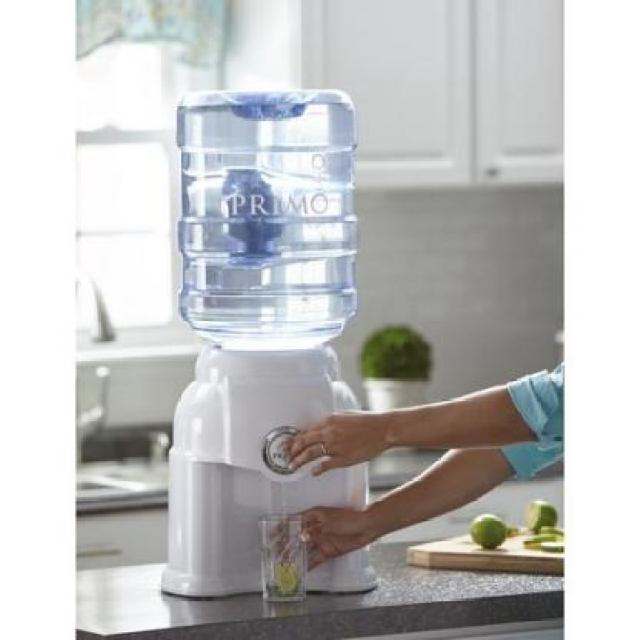cooler: (165, 86, 377, 599)
